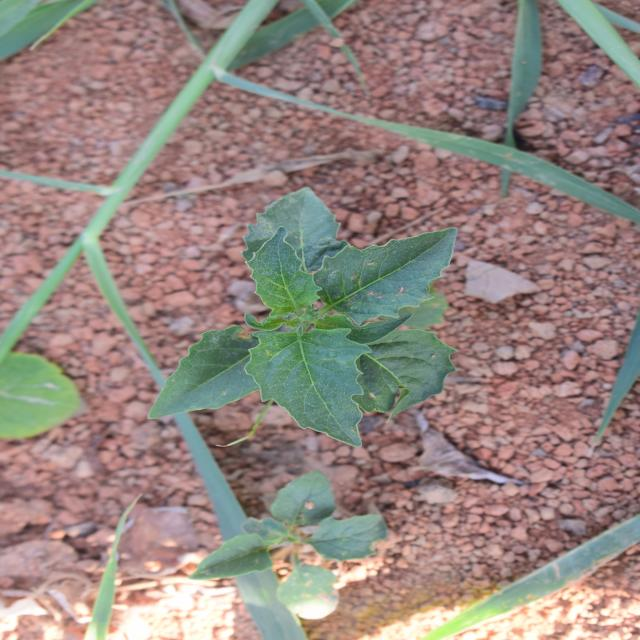Black_nightshade: (179, 168, 440, 468)
